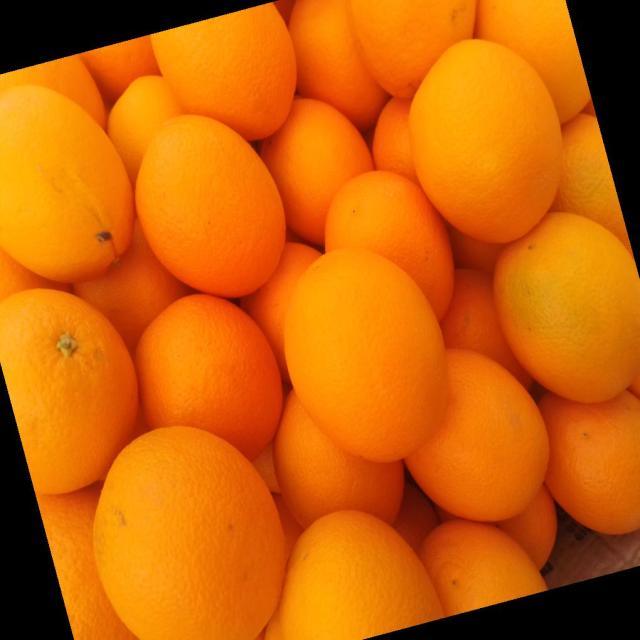fresh orange: (2, 2, 637, 635), (273, 259, 483, 477), (92, 426, 280, 635), (390, 339, 566, 531), (244, 488, 468, 638), (486, 194, 640, 412), (2, 83, 153, 301), (408, 39, 564, 238), (0, 288, 136, 495), (134, 115, 284, 294), (135, 294, 281, 460), (508, 373, 640, 540), (410, 504, 572, 628), (323, 171, 456, 319), (150, 7, 297, 140), (263, 99, 375, 243), (38, 486, 144, 635), (74, 223, 192, 354), (478, 0, 588, 122), (287, 0, 390, 127), (350, 2, 478, 98), (245, 242, 325, 380), (554, 115, 629, 258), (107, 76, 184, 186), (2, 54, 104, 131)
